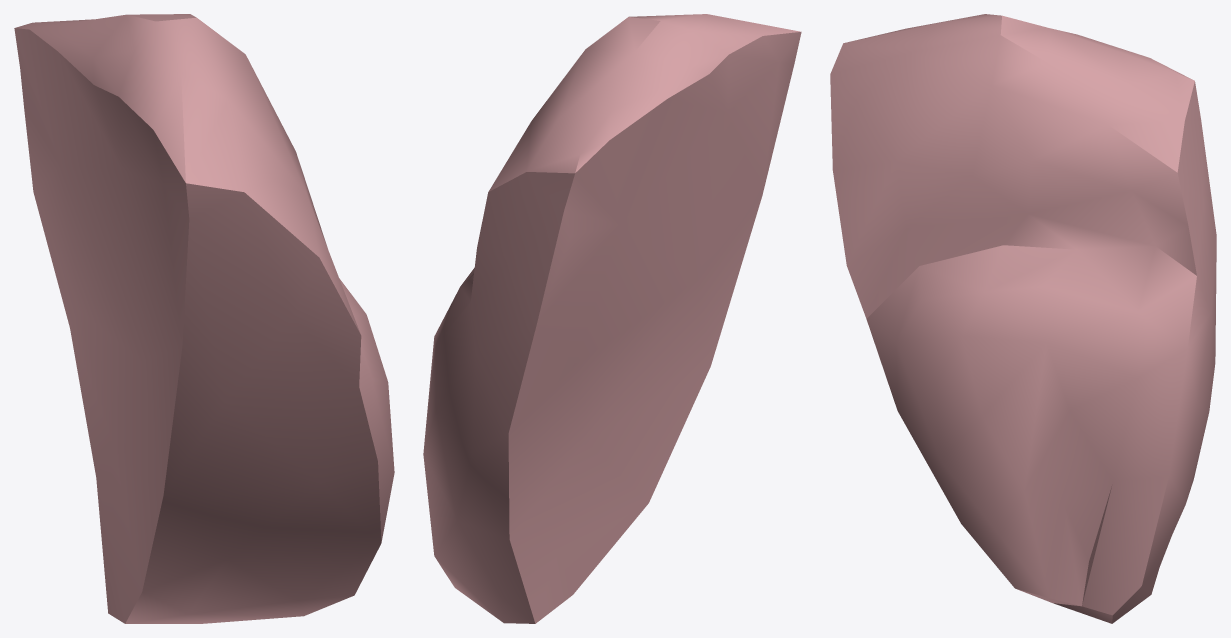
The model's file is fma72730_mm237.glb.
3 renders of one model, left to right at view 1: azimuth 30°, elevation 25°; view 2: azimuth 150°, elevation 25°; view 3: azimuth 270°, elevation 25°, orthographic. The views are drawn at different scales.
Visible parts, largest first — view 1: FMA72730_MM237; view 2: FMA72730_MM237; view 3: FMA72730_MM237.
Boxes of the visible parts, x1,y1,x2,y2 form: FMA72730_MM237: (14, 14, 394, 623); FMA72730_MM237: (423, 14, 801, 623); FMA72730_MM237: (830, 14, 1216, 623).
Size of the model in its own units: 0.00956 by 0.0219 by 0.0142.
